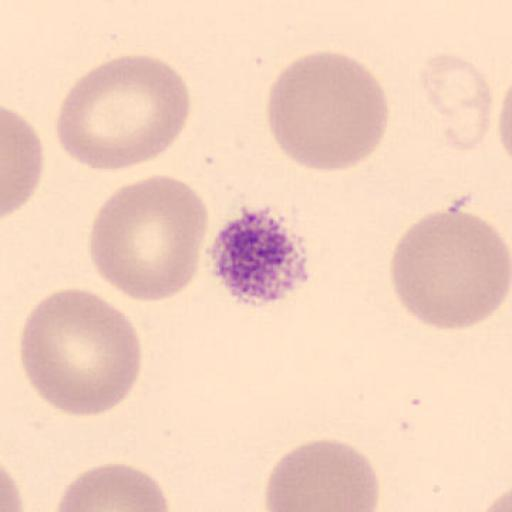Platelet: (206, 204, 314, 309)
RBC: (19, 286, 142, 419), (87, 172, 210, 305), (57, 52, 192, 172), (266, 50, 390, 174), (389, 207, 511, 332), (264, 437, 380, 512), (420, 51, 494, 151), (51, 462, 171, 512), (2, 106, 44, 218), (0, 461, 26, 512), (496, 79, 512, 157), (479, 485, 512, 512)
